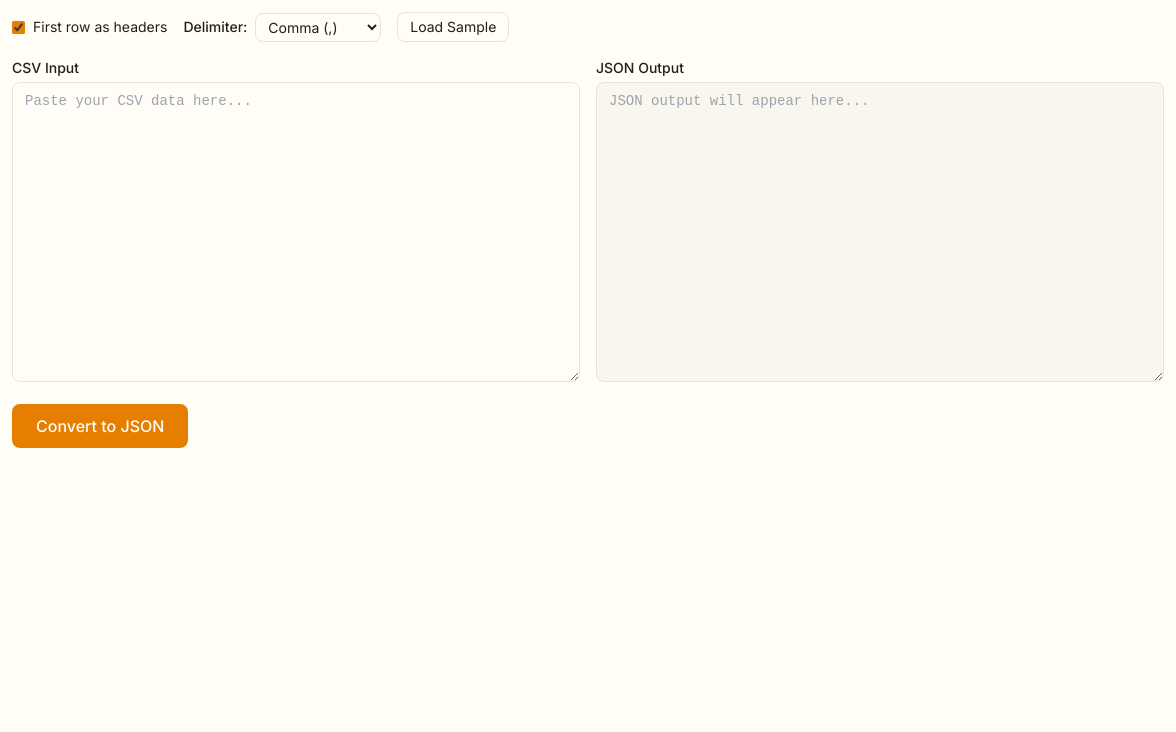
CsvToJson › shows error for empty input
What coordinates should you click on to do the following:
click the button with aria-label "Convert CSV to JSON"
I would click on:
 (100, 426)
Its box is [12,404,188,448].
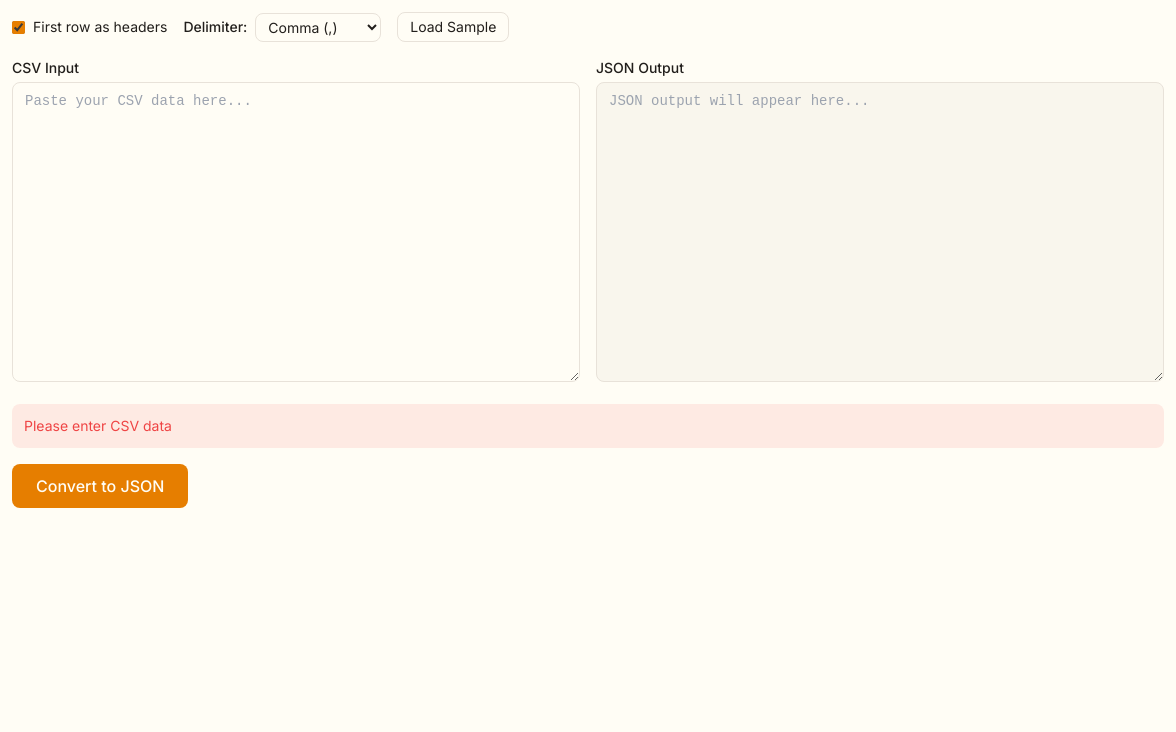
Now the text "Please enter CSV data" is shown, box [12,404,1164,448]
